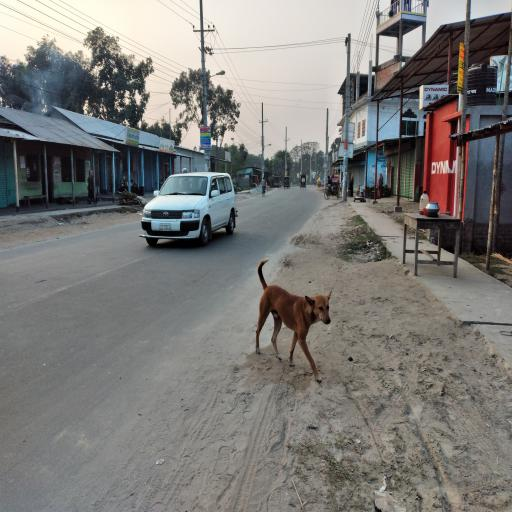auto rickshaw: (285, 176, 292, 191), (274, 176, 281, 190)
bicycle: (118, 179, 141, 196), (262, 177, 268, 198)
car: (138, 172, 244, 253)
rickshaw: (324, 174, 341, 201), (300, 175, 308, 192)
truck: (317, 172, 332, 190)
